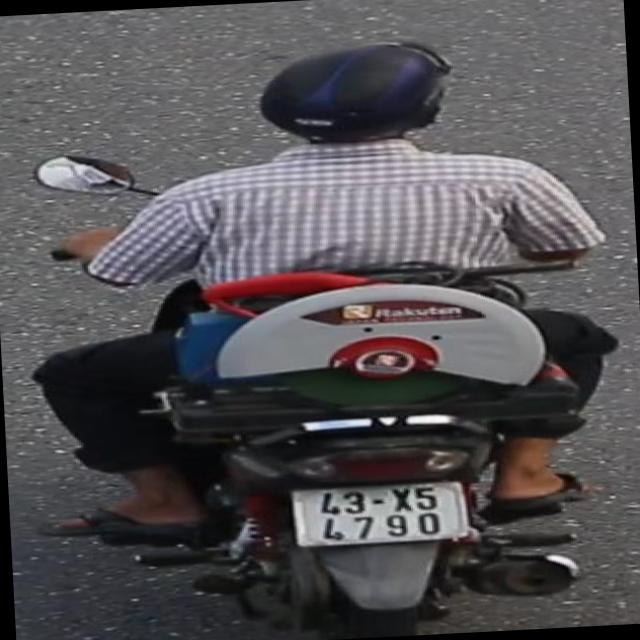LP: (282, 469, 476, 554)
helmet: (247, 36, 459, 166)
